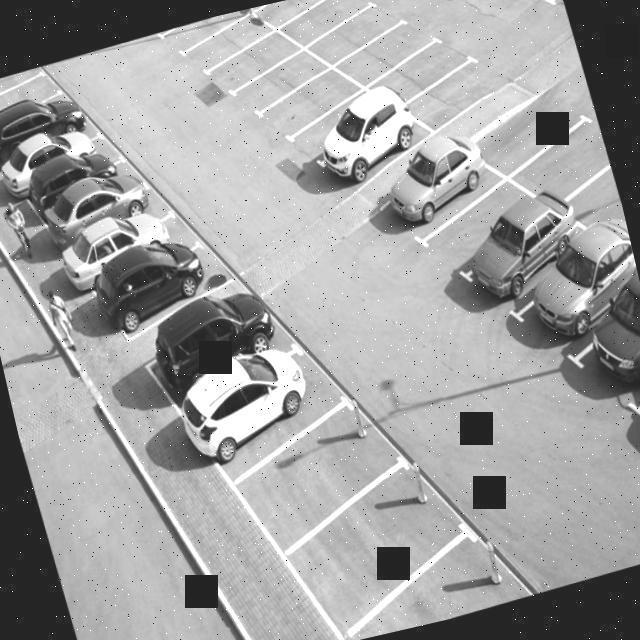space-empty: (404, 175, 535, 286), (477, 87, 587, 171), (510, 127, 616, 207), (259, 66, 359, 150), (202, 24, 302, 106), (284, 94, 382, 177), (229, 43, 324, 124), (370, 31, 467, 103), (182, 13, 269, 89), (310, 0, 407, 68), (411, 62, 499, 134), (346, 18, 435, 87), (281, 0, 385, 53), (559, 161, 626, 237), (0, 83, 82, 145), (162, 10, 251, 63), (0, 70, 66, 131), (0, 65, 49, 112), (514, 0, 565, 20)
space-occupied: (279, 470, 474, 630), (238, 400, 411, 537), (177, 329, 343, 470), (348, 523, 535, 638), (510, 235, 640, 361), (440, 197, 577, 313), (86, 232, 226, 343), (150, 278, 284, 386), (365, 139, 487, 251), (305, 95, 422, 191), (570, 270, 640, 417), (53, 170, 168, 258), (74, 209, 191, 290), (7, 123, 119, 198), (0, 94, 101, 169), (33, 150, 141, 217)
